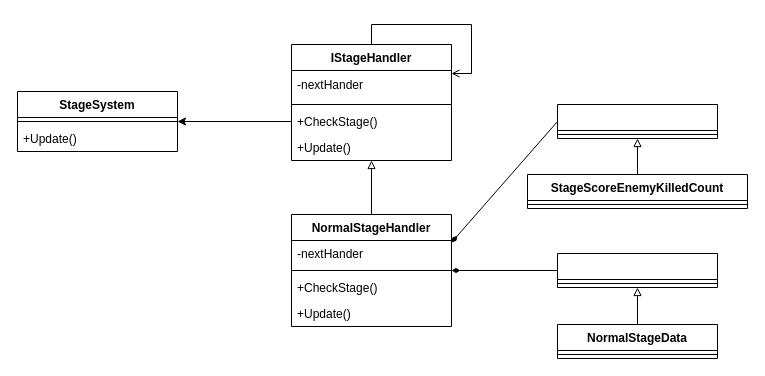
Image size: 765x376. Some labels were removed from this diagram. Here are the shapes that lost their labels. From the top down, the centre of each, then its label:
point (637, 121): IStageScore
point (637, 270): IStageData
